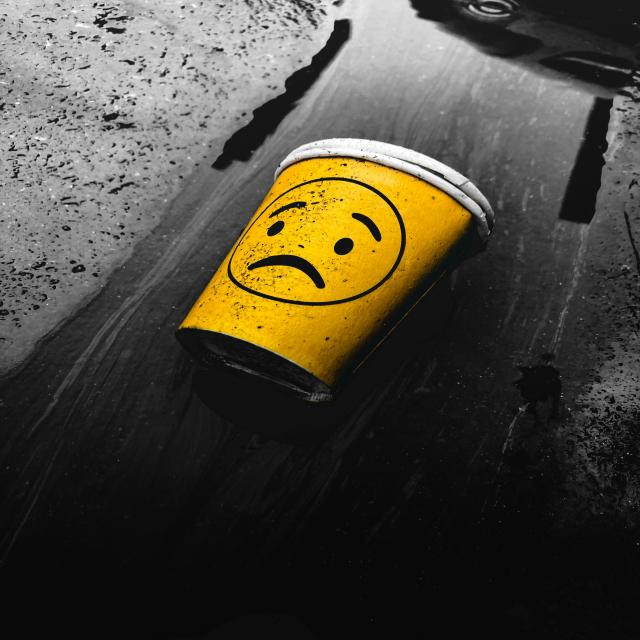plastic: (235, 158, 433, 376)
